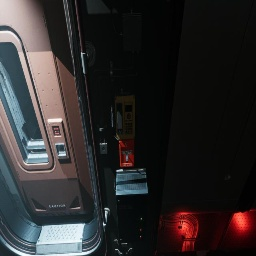EmergencyPhone ,: (111, 83, 135, 140)
FireAlarm ,: (119, 138, 134, 167)
NitrogenTank ,: (154, 250, 164, 256)
